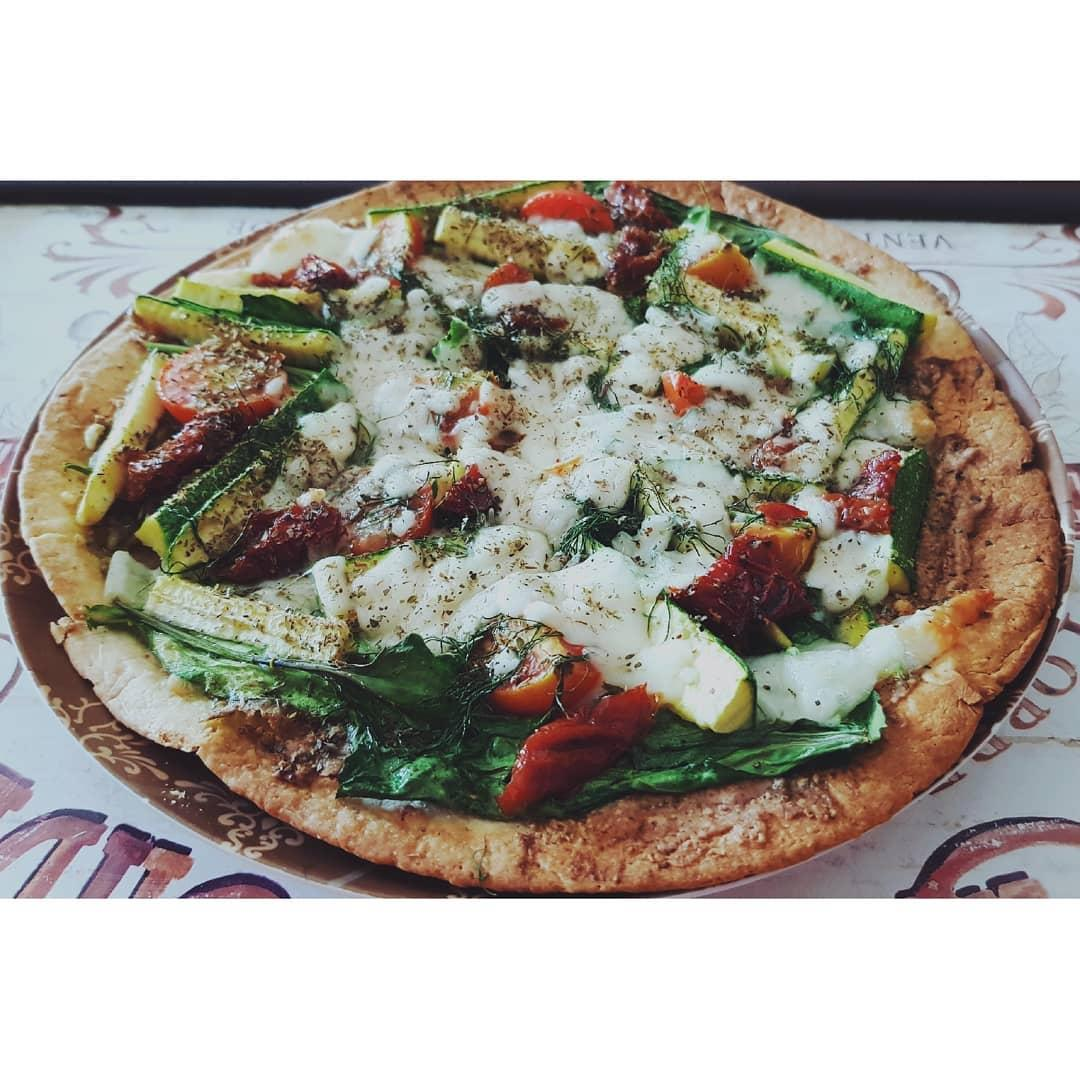Pizza: (0, 178, 1080, 900)
Tomatoes: (667, 499, 821, 658), (498, 684, 652, 814), (344, 464, 492, 560), (475, 618, 599, 717), (121, 409, 242, 500), (209, 503, 343, 584), (153, 335, 290, 408), (821, 447, 904, 536), (515, 185, 615, 237), (368, 209, 429, 285), (249, 257, 359, 289), (657, 365, 713, 418), (480, 258, 531, 293)
